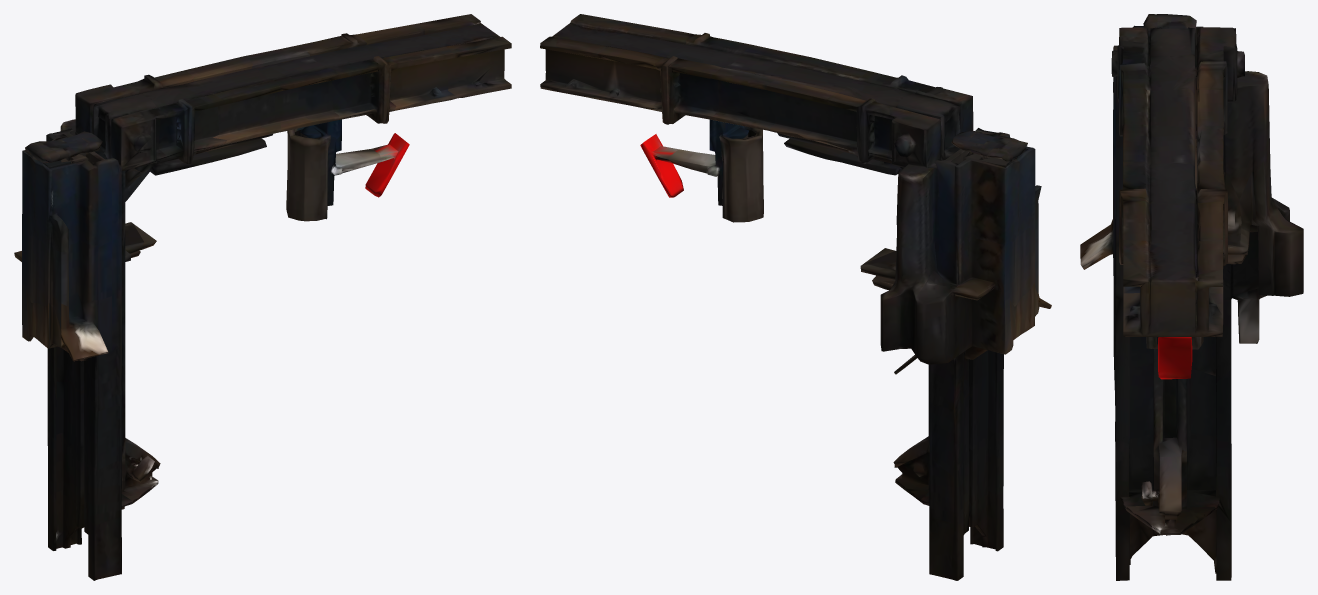
Rendered from construction-14.glb.
The picture shows the model from 3 angles, left to right: view 1: azimuth 30°, elevation 25°; view 2: azimuth 150°, elevation 25°; view 3: azimuth 270°, elevation 25°; orthographic projection. The views are drawn at different scales.
Size of the model in its own units: 1.32 by 1.24 by 0.4471.
1 material, 1 textured.
